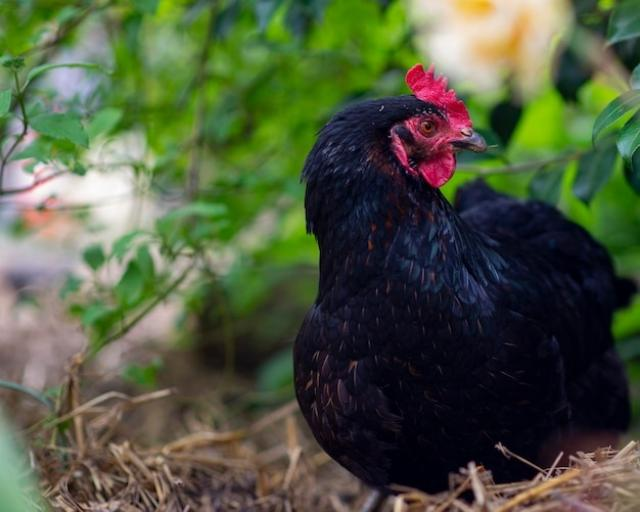Chicken: (291, 62, 639, 502)
